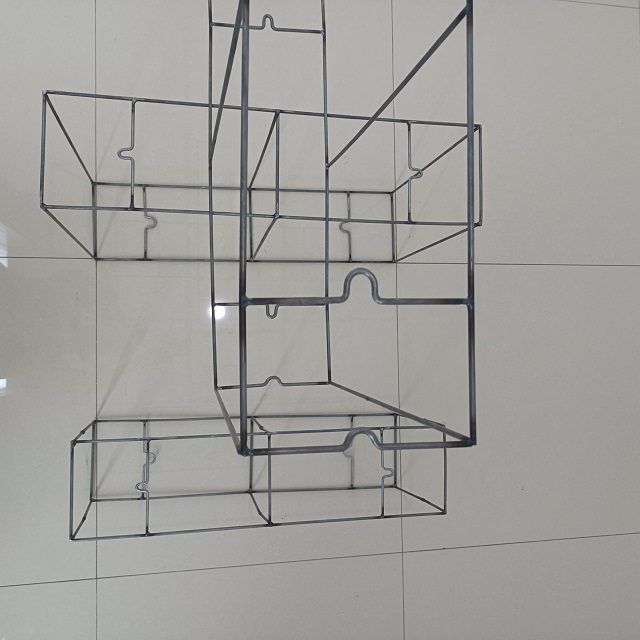curvedhole: (323, 265, 400, 311), (327, 424, 399, 459), (254, 370, 298, 393), (114, 134, 141, 171), (250, 10, 288, 36), (252, 297, 291, 322), (405, 157, 427, 193), (375, 460, 399, 492), (141, 205, 161, 240), (137, 445, 162, 472), (339, 204, 356, 242), (134, 474, 155, 501)
